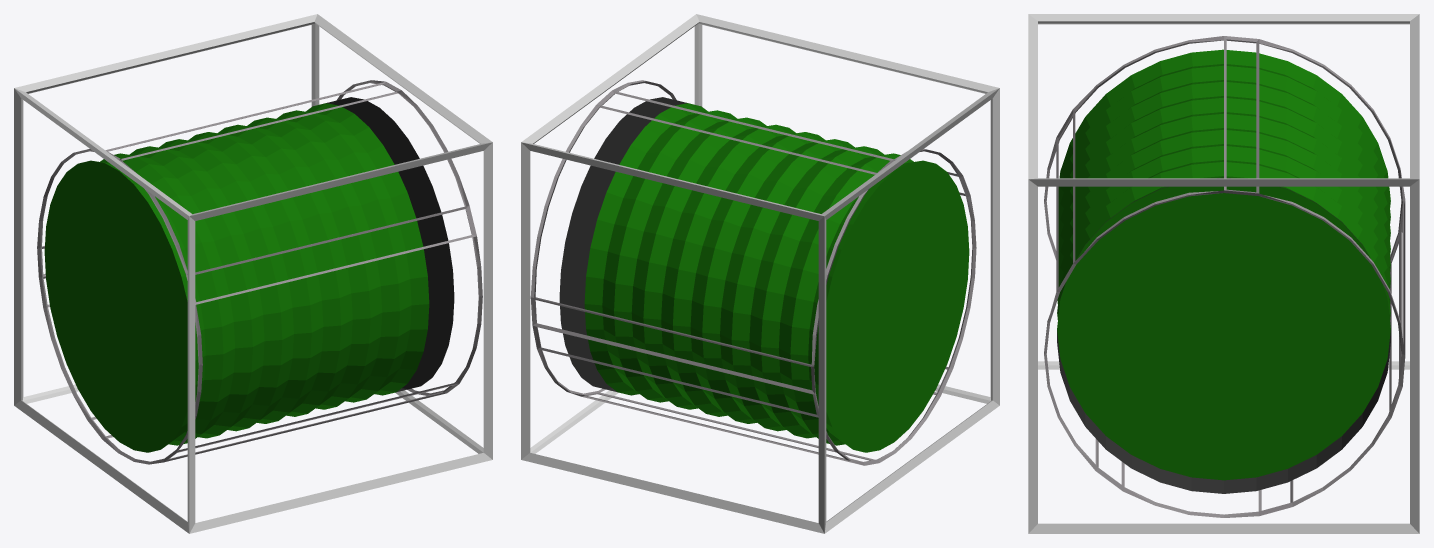
The model's file is assembly_pump_part_green.dae.
3 views of the same model, side by side, from view 1: azimuth 30°, elevation 25°; view 2: azimuth 150°, elevation 25°; view 3: azimuth 270°, elevation 25° (orthographic). The views are drawn at different scales.
Visible parts, largest first — view 1: cylinderHead.001; view 2: cylinderHead.001; view 3: cylinderHead.001.
Boxes of the visible parts, box(x1,y1,x2,y2) form: cylinderHead.001: box(14, 14, 492, 533); cylinderHead.001: box(521, 14, 999, 533); cylinderHead.001: box(1028, 14, 1419, 533).
Bounding box in the file's own units: 0.1262 × 0.1262 × 0.1262.
